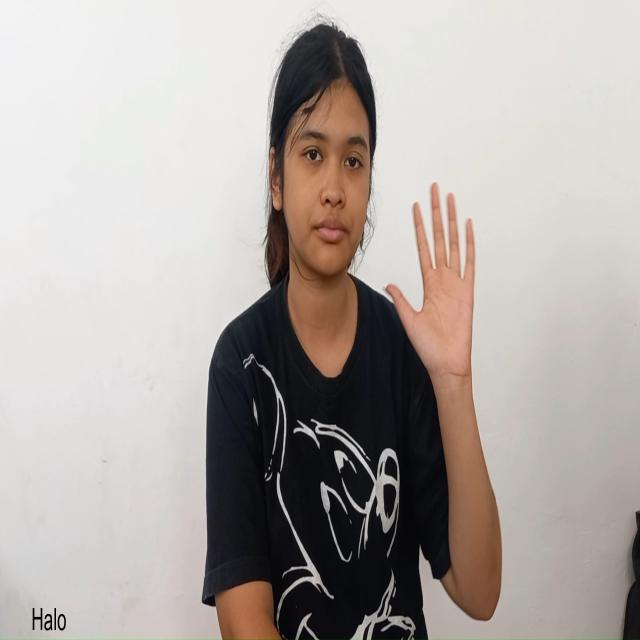Halo -BISINDO-: (379, 172, 487, 424)
